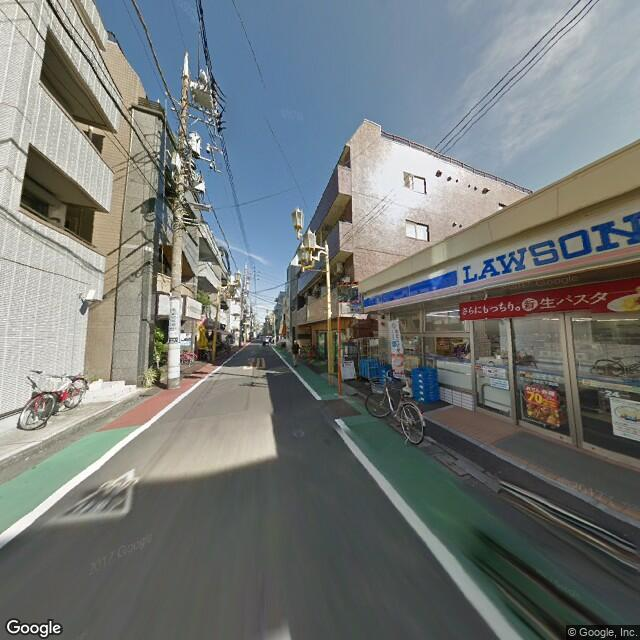lawson: (361, 195, 639, 313)
